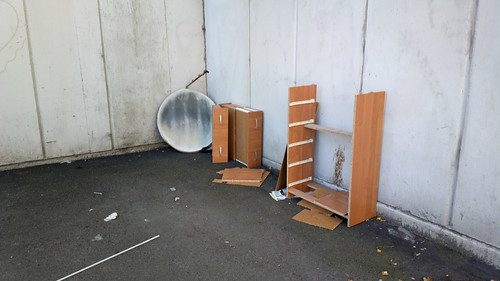trash: (117, 52, 424, 251)
